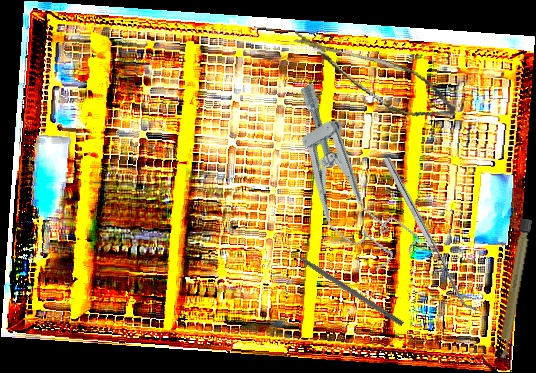Chopper: (281, 238, 409, 327)
Micro Scissor: (282, 31, 465, 126)
Scalpel Handle: (495, 218, 533, 360)
Spatula Surgical: (382, 153, 479, 317)
Speculum: (263, 75, 424, 282)
